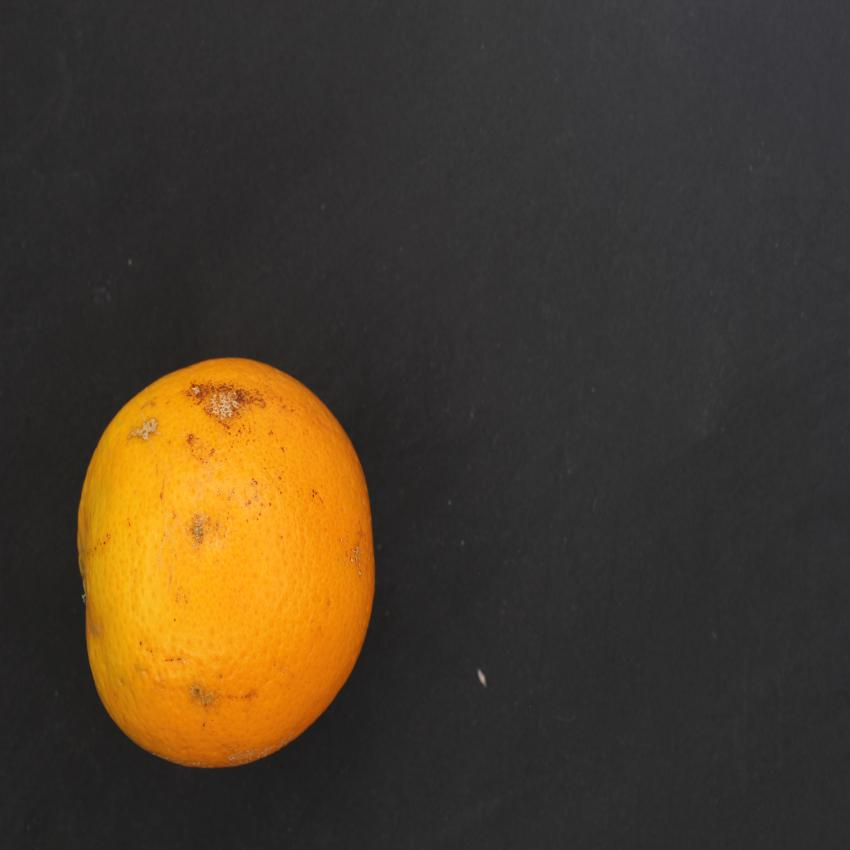Mal estado: (70, 338, 401, 775)
